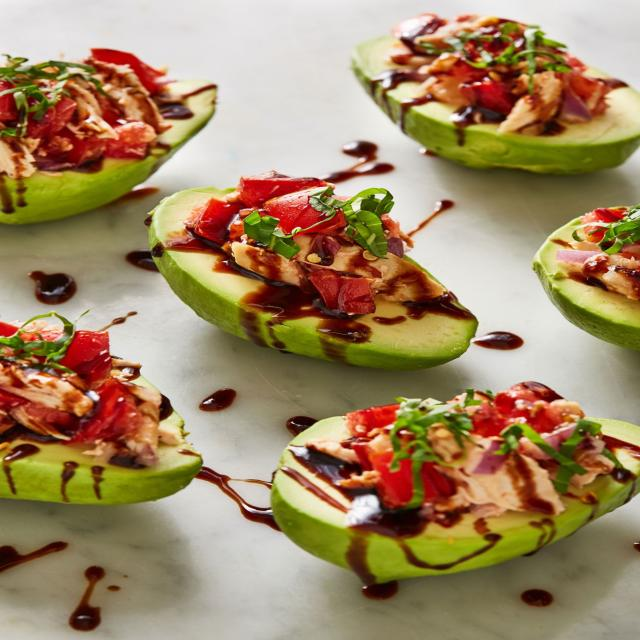aguacate: (244, 385, 639, 579), (149, 176, 484, 369), (332, 11, 630, 174)
